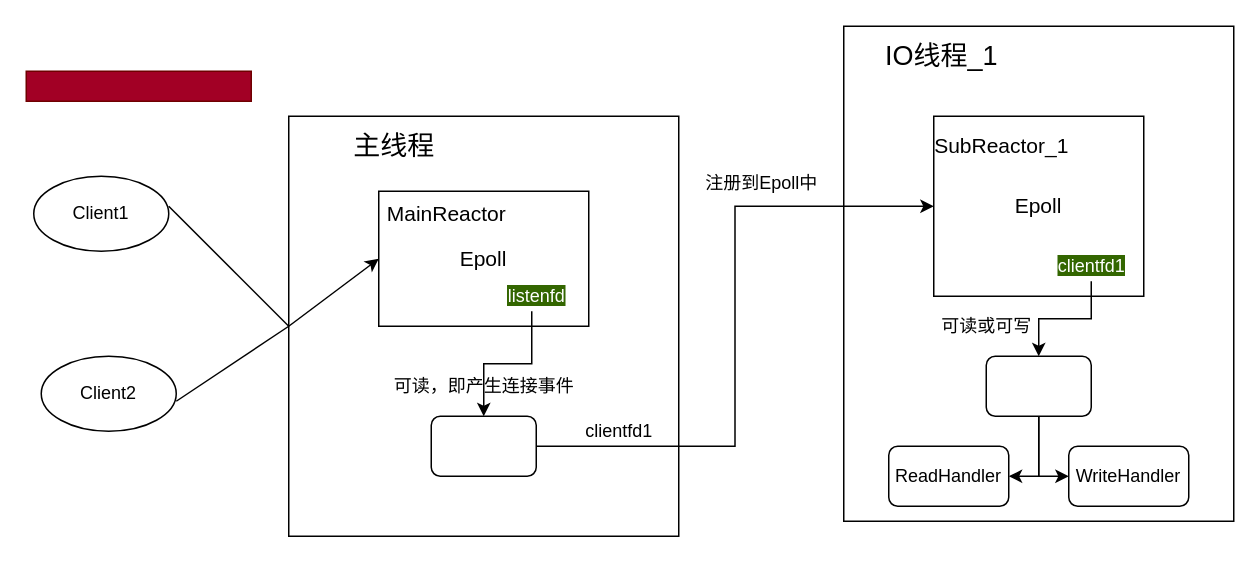
This 1260x563 diagram has some shape labels left out. The shapes that lost their labels are listed below. From the top down, each one's centre as x and y in pixels, then its label:
At point (138, 85): "主从Reactor模式".
At point (1038, 385): "Handler".
At point (483, 445): "Acceptor".
